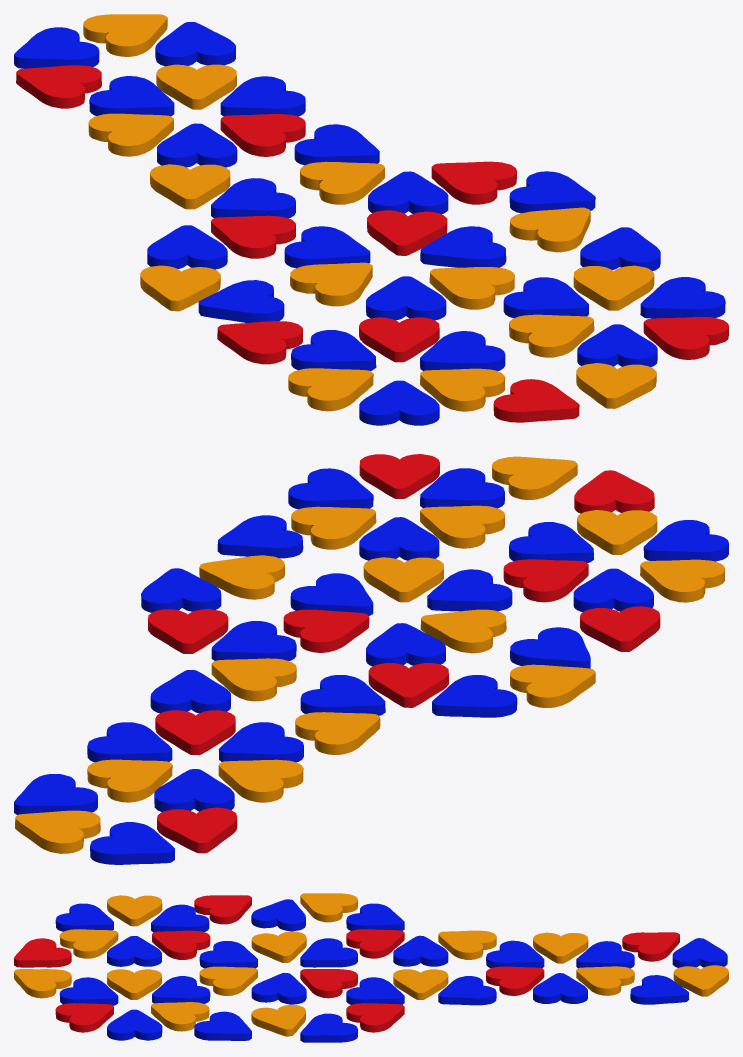
File: typeCombine004.fbx
3 renders of one model, top to bottom at view 1: azimuth 30°, elevation 25°; view 2: azimuth 150°, elevation 25°; view 3: azimuth 270°, elevation 25°, orthographic. The views are drawn at different scales.
Visible parts, largest first — view 1: typeCombine004; view 2: typeCombine004; view 3: typeCombine004.
Part boxes in pixels (left/top/right/bottom): typeCombine004: left=14, top=14, right=728, bottom=425; typeCombine004: left=14, top=454, right=728, bottom=864; typeCombine004: left=14, top=893, right=728, bottom=1042.
Bounding box in the file's own units: 1180 × 28.13 × 2504.
